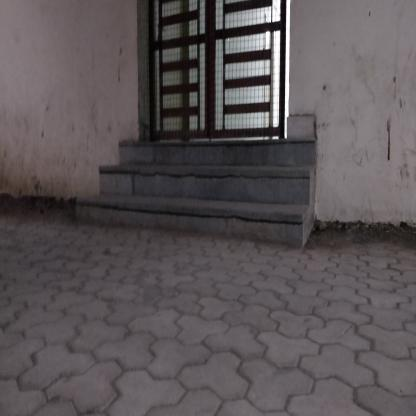stairs: (120, 138, 299, 236)
